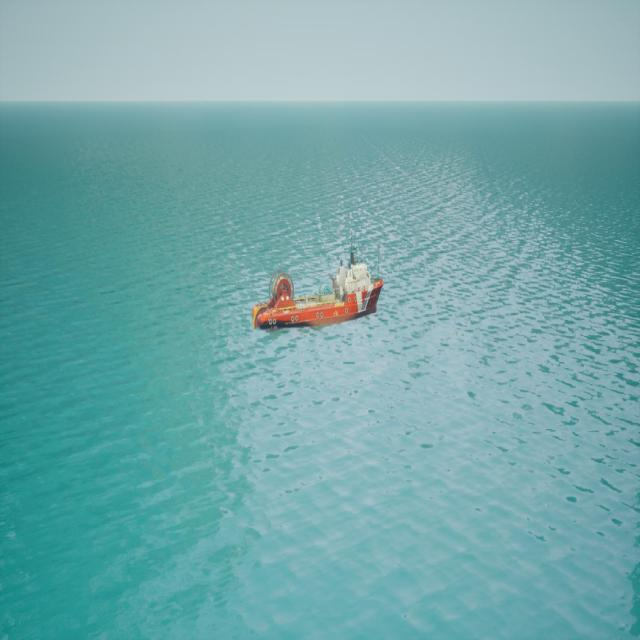tug boat: (255, 242, 386, 334)
